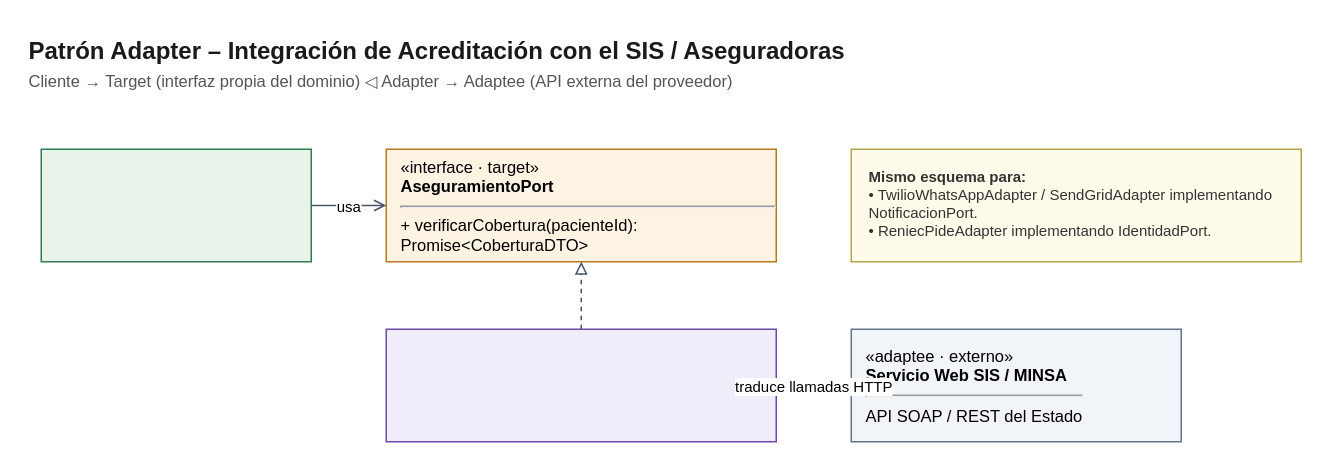
The diagram is 1328 pixels wide and 468 high, and some of its shapes have lost their labels. Here are the shapes that lost their labels. From the top down, the box of each, then its label:
(40, 148, 311, 262): «cliente» ReservarCitaUseCase + ejecutar(cmd)
(385, 328, 776, 442): «adapter» SISResilientAdapter + verificarCobertura(pacienteId)
